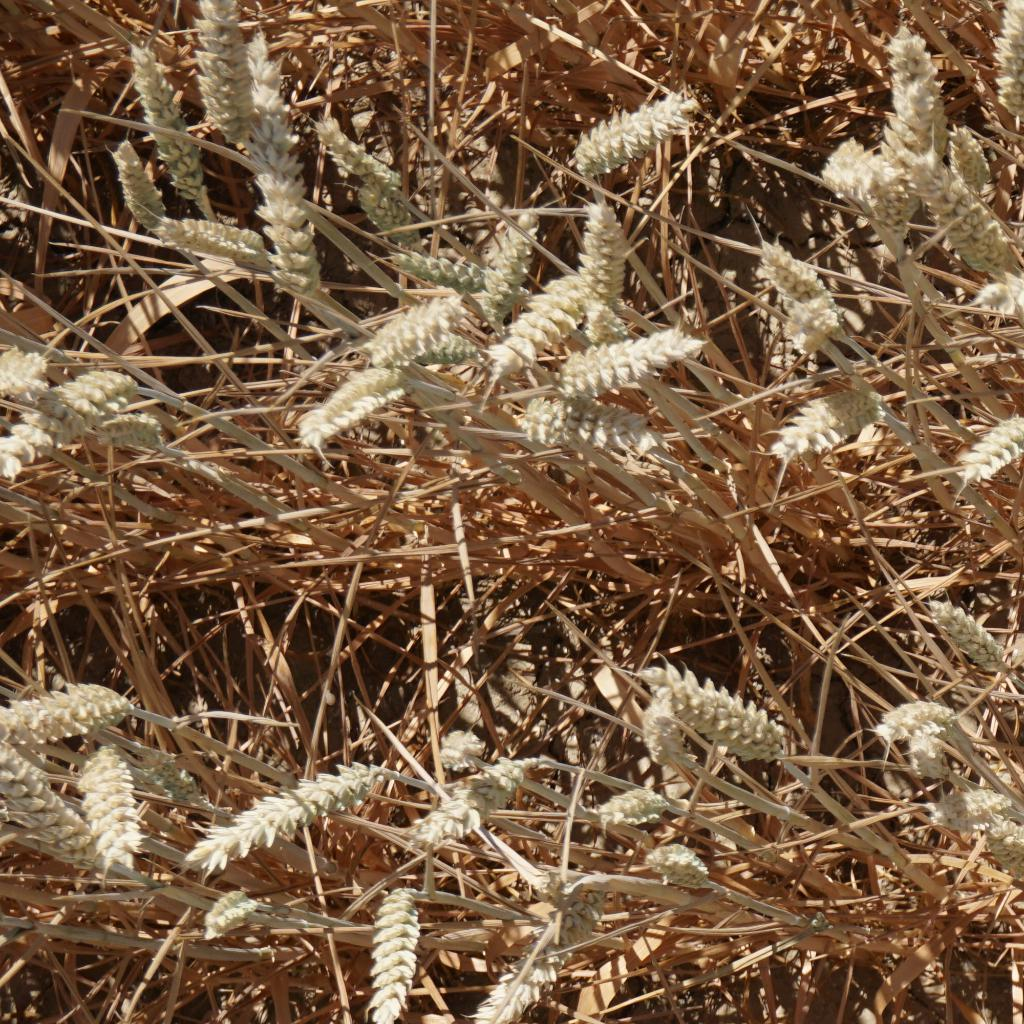0-0: (184, 754, 404, 871), (236, 47, 328, 306), (470, 872, 607, 1024), (625, 655, 795, 770), (0, 365, 141, 484), (401, 747, 553, 840), (185, 2, 269, 169), (504, 381, 671, 462), (305, 112, 423, 226), (118, 37, 202, 195), (915, 157, 1024, 277), (762, 376, 896, 468), (569, 86, 708, 171), (74, 744, 149, 874), (0, 763, 98, 860), (545, 325, 716, 379), (758, 236, 846, 340), (295, 360, 409, 439), (364, 878, 423, 1024), (561, 198, 640, 305), (352, 291, 470, 362), (929, 588, 1021, 673), (0, 683, 132, 740), (130, 206, 256, 265), (100, 139, 175, 234), (500, 271, 569, 374), (945, 397, 1024, 484), (185, 882, 281, 951), (880, 41, 943, 145), (464, 204, 527, 307), (350, 180, 428, 263), (760, 292, 849, 357), (637, 838, 732, 898), (391, 236, 486, 293), (985, 0, 1024, 132), (598, 779, 685, 838), (921, 779, 1024, 823), (811, 135, 876, 202), (956, 253, 1024, 316), (868, 689, 965, 732), (110, 399, 171, 460), (868, 165, 921, 226), (942, 124, 987, 192), (978, 813, 1024, 878), (642, 702, 689, 765), (431, 720, 484, 770), (900, 728, 956, 775), (572, 295, 618, 326)
